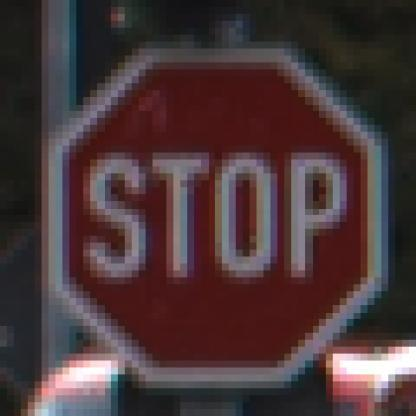Stop: (57, 57, 376, 380)
